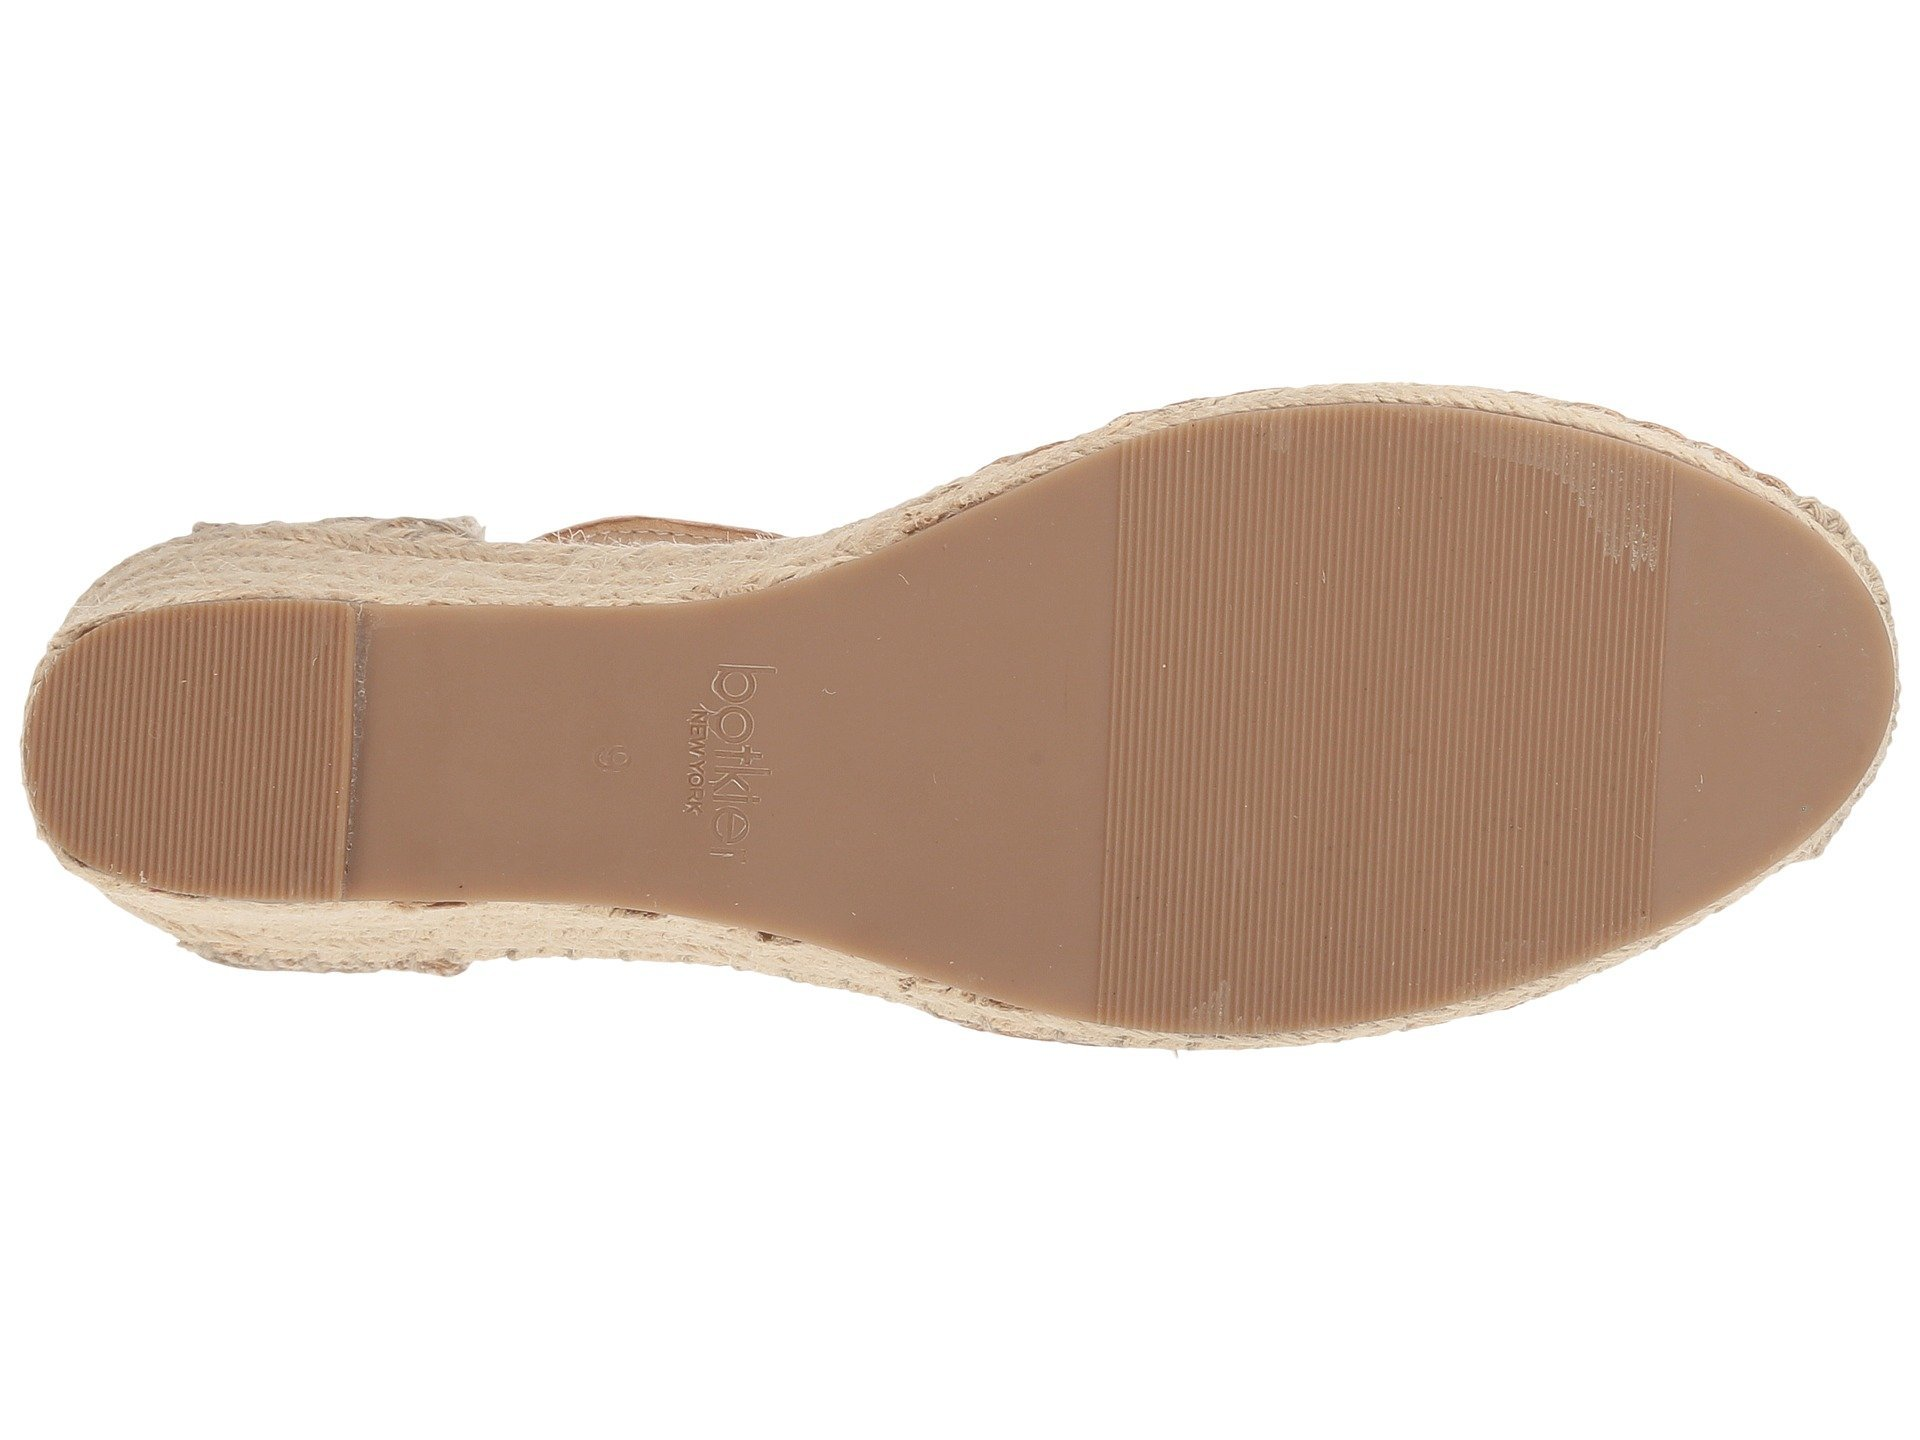circle: (633, 611, 824, 888)
line: (1253, 461, 1545, 902), (119, 646, 268, 814)
text: (633, 611, 824, 888)
